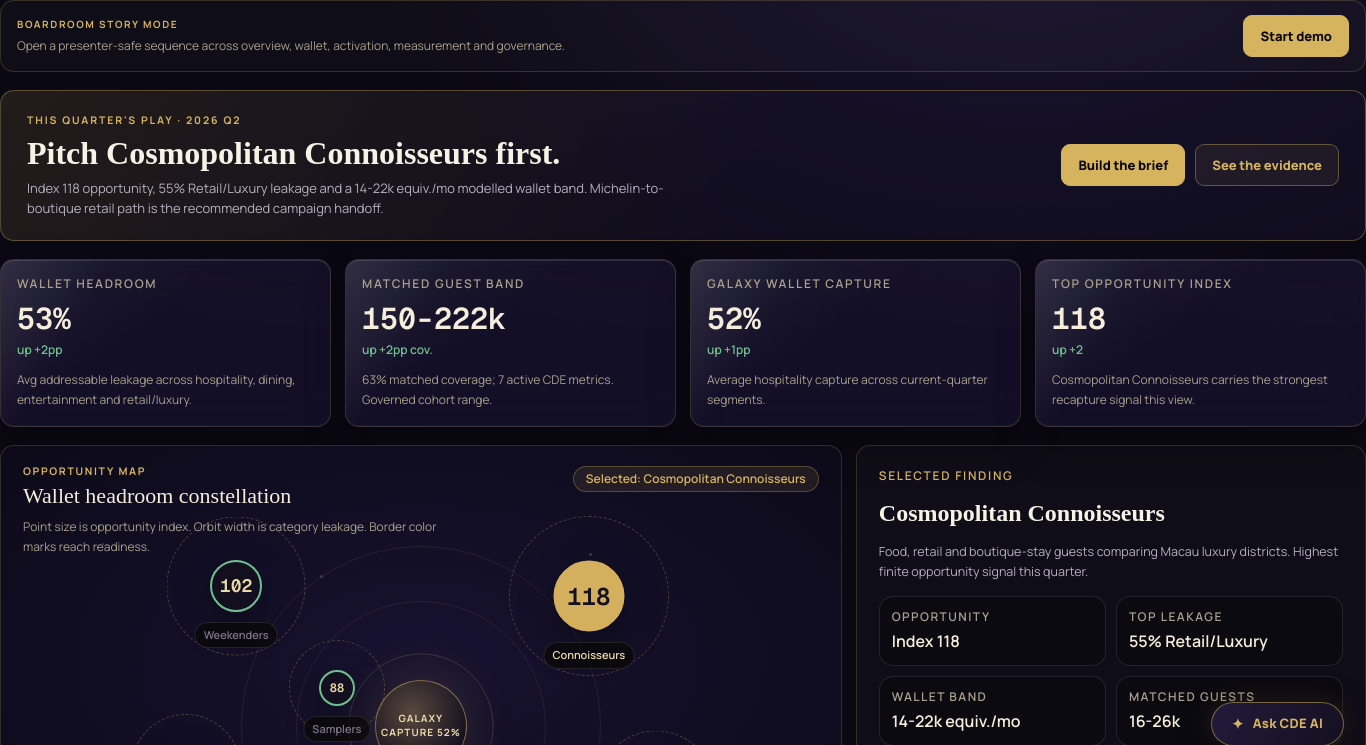
Scenario: ConstellationRedesignScreen › updates selected finding when a constellation node is clicked
Click the button named "Select Premium Mass Weekenders": click(236, 586) [210, 560, 262, 612]
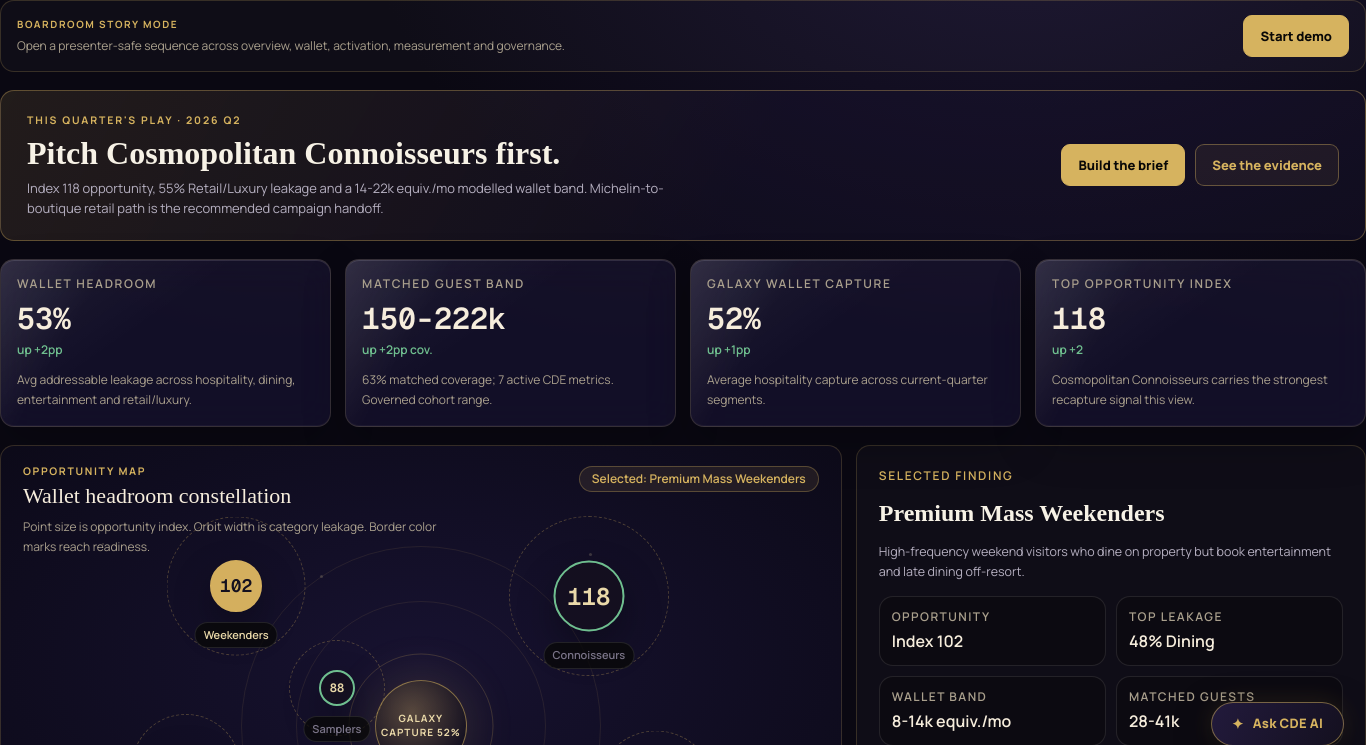
Expected: the heading "Premium Mass Weekenders" is shown, [879, 500, 1165, 526]
Expected: the text "48% Dining" is shown, [1129, 630, 1215, 652]
Expected: the text "8-14k equiv./mo" is shown, [892, 710, 1011, 732]
